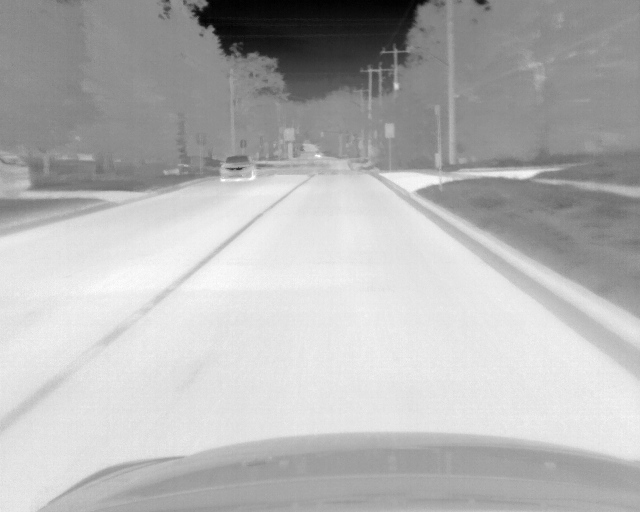car: (1, 151, 30, 200), (218, 155, 256, 181)
